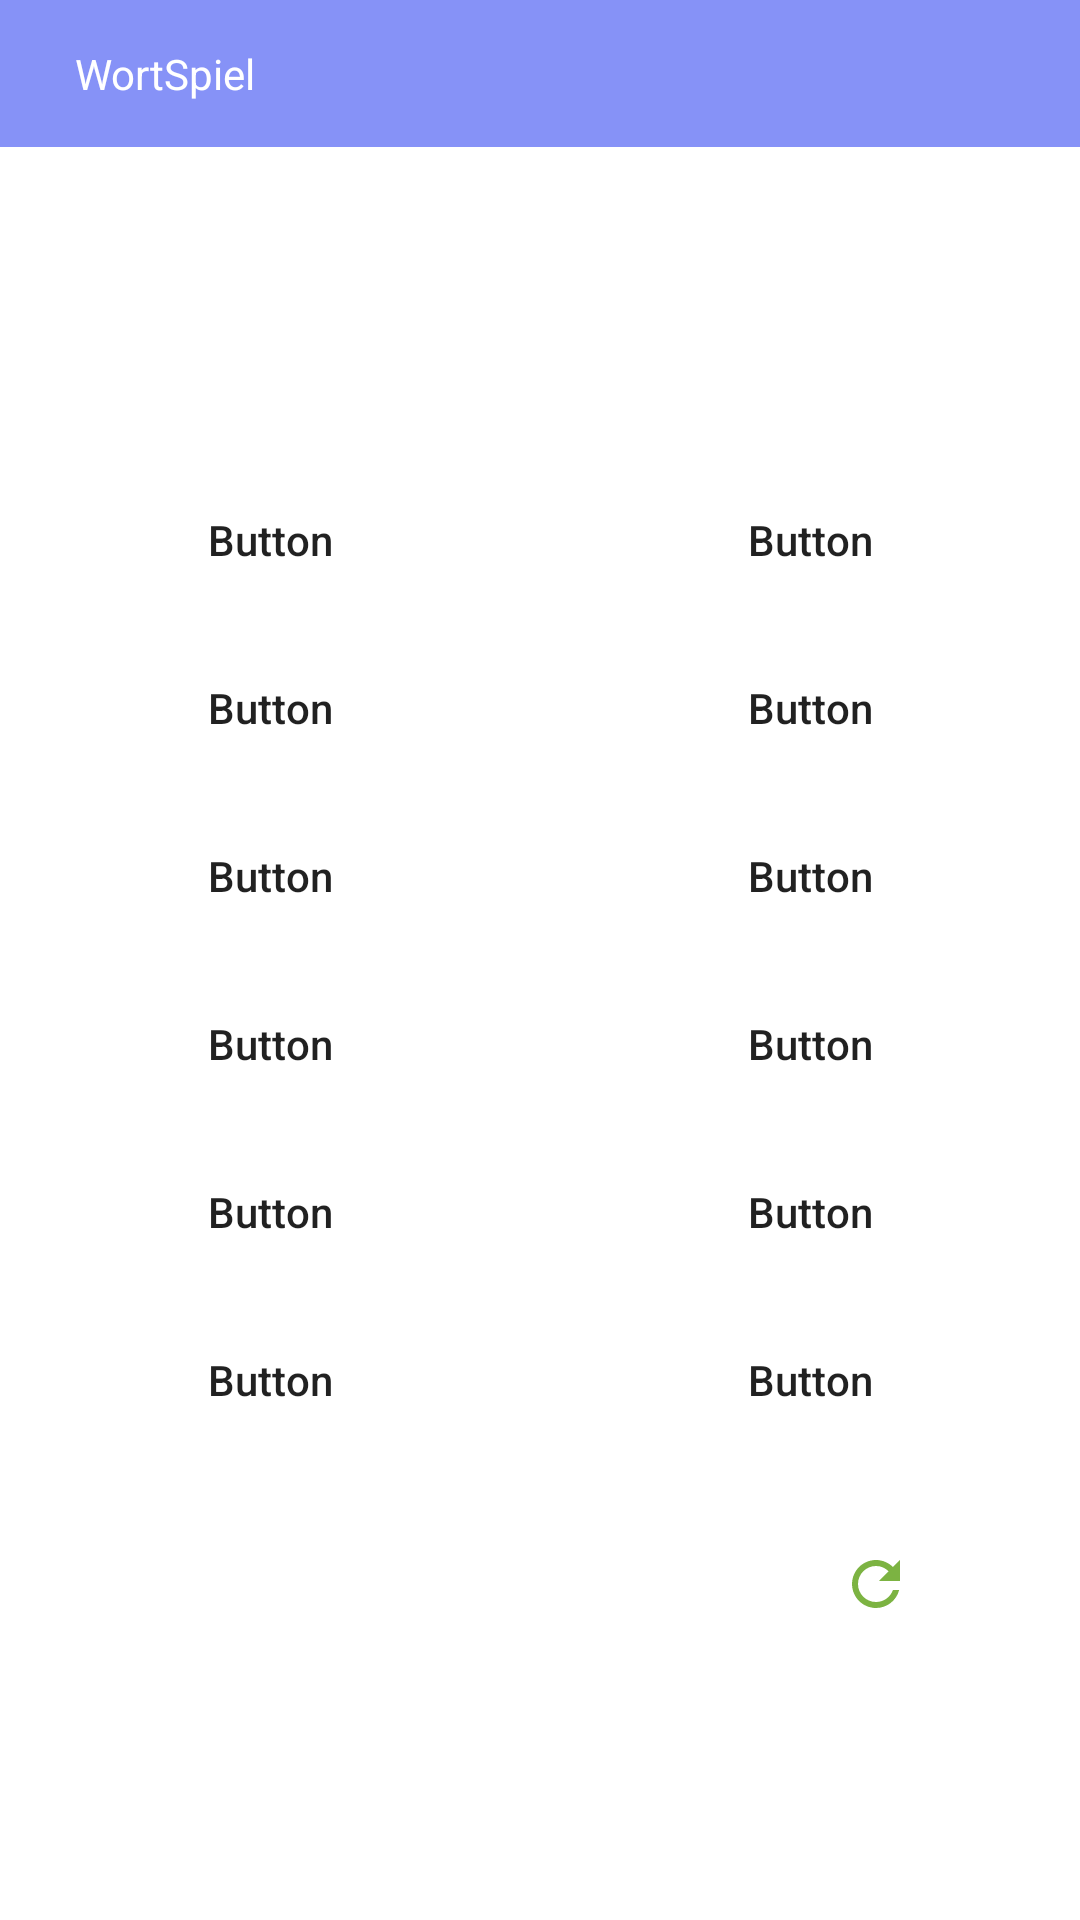

Screen size 1080px x 1920px. Icon name, then its center in pixels as (x,y):
refresh: (876,1584)
